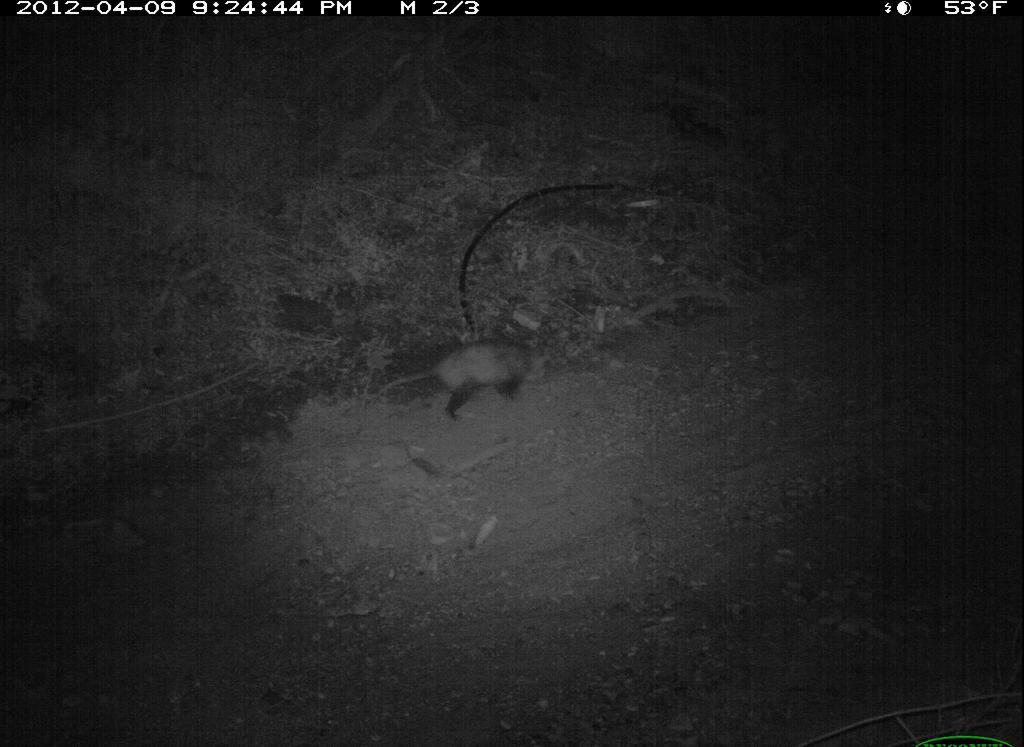opossum: (356, 329, 578, 429)
